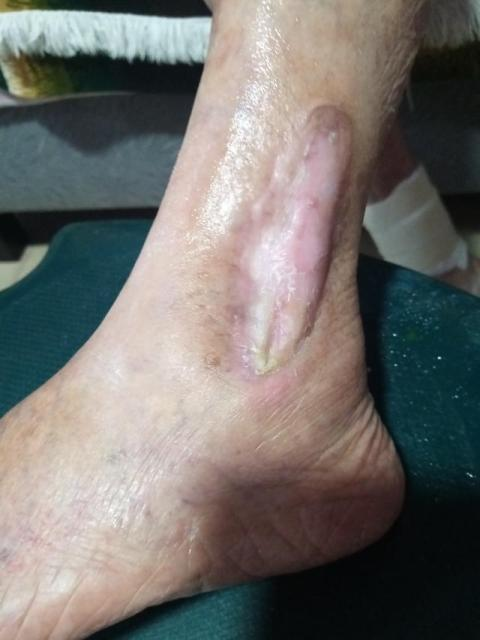wound: (214, 105, 360, 383)
